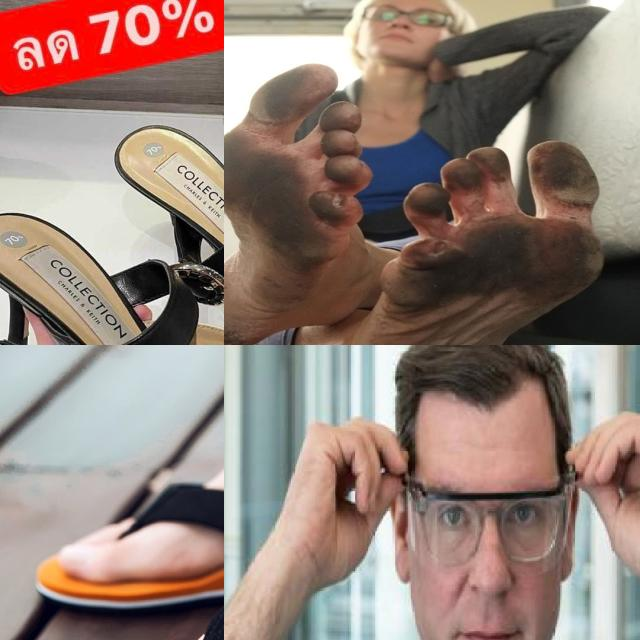Barefoots: (346, 140, 605, 345), (224, 63, 372, 345)
Sandals: (0, 179, 224, 345), (110, 108, 224, 345), (97, 497, 224, 640)
face_nomask: (414, 483, 563, 640)
glasses: (396, 468, 580, 577)
hand_noglove: (290, 413, 410, 584), (559, 397, 640, 580)
head_nohelmet: (388, 345, 571, 416)
person: (224, 345, 640, 640)
